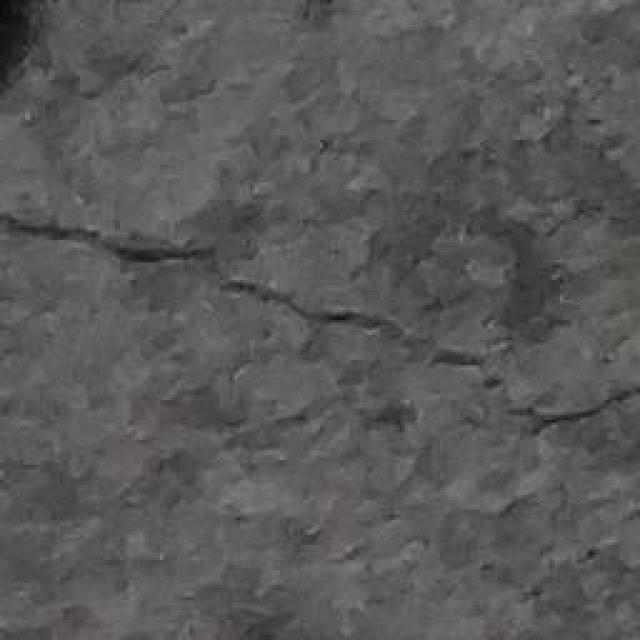Transverse: (19, 195, 640, 442)
